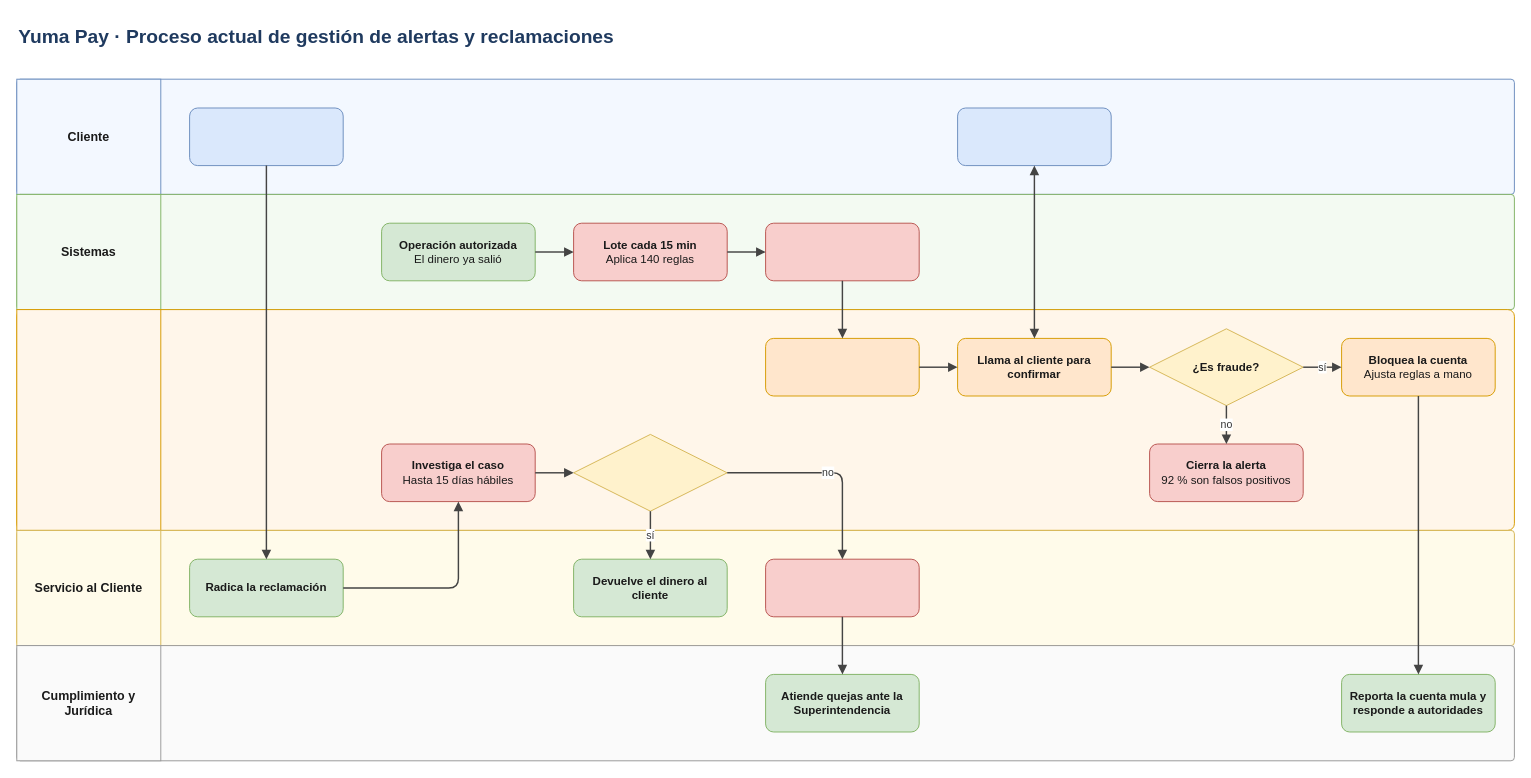
The diagram is 1531 pixels wide and 778 high, and some of its shapes have lost their labels. Here are the shapes that lost their labels. From the top down, the box of each, then its label:
(189, 107, 343, 166): Ve un movimiento que no reconoce y lo reporta
(957, 107, 1111, 166): Confirma o niega la operación
(765, 222, 919, 281): Alerta en la cola ≈ 4.000 al día
(765, 337, 919, 396): Analista toma la alerta Revisa 1 de cada 3
(16, 309, 161, 530): Prevención de Fraude
(573, 433, 727, 511): ¿Procede?
(765, 558, 919, 617): Niega la reclamación
